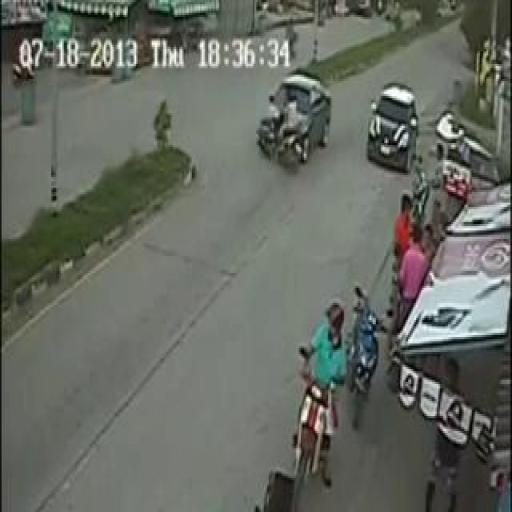Car: (258, 66, 333, 161), (369, 86, 417, 170)
Major Accident: (256, 63, 334, 173)
Motor: (287, 298, 346, 494), (352, 286, 390, 436), (270, 102, 308, 172)
